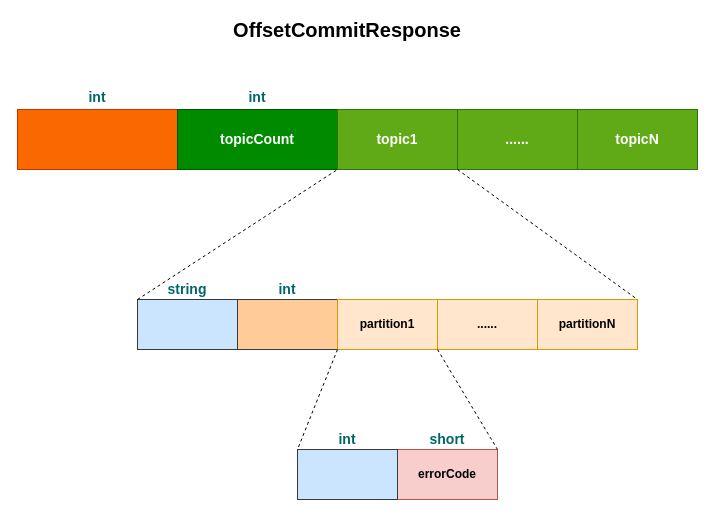
The diagram is 715 pixels wide and 517 high, and some of its shapes have lost their labels. Here are the shapes that lost their labels. From the top down, the centre of each, then its label:
(97,139): correlationId
(187,324): topicName
(287,324): numPartitions
(347,474): partitionId
